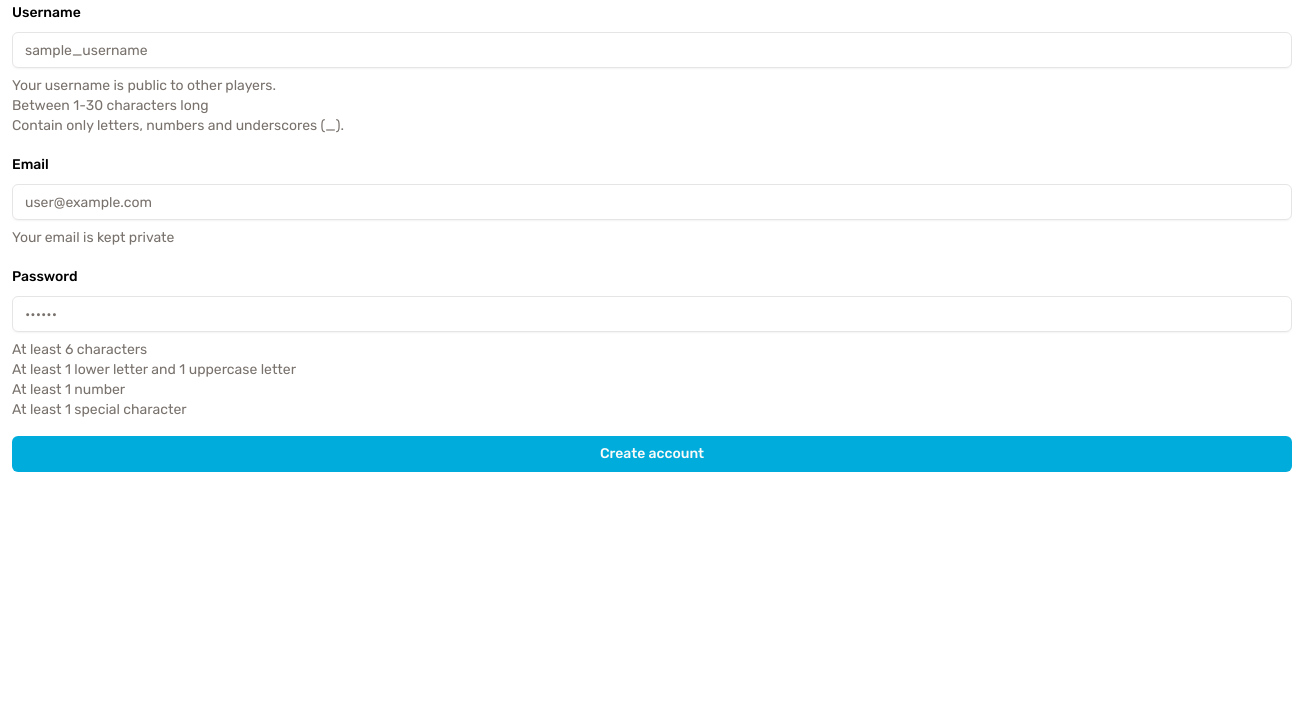
Test: validation is not successful › and username is not valid › should show an error if username is too long
In the field labelled "Username": (652, 50) [12,32,1292,68], type "dsajflakdsjflkajflkajslfjaldskfjalsfjaklsjflkadsfjlkajl"
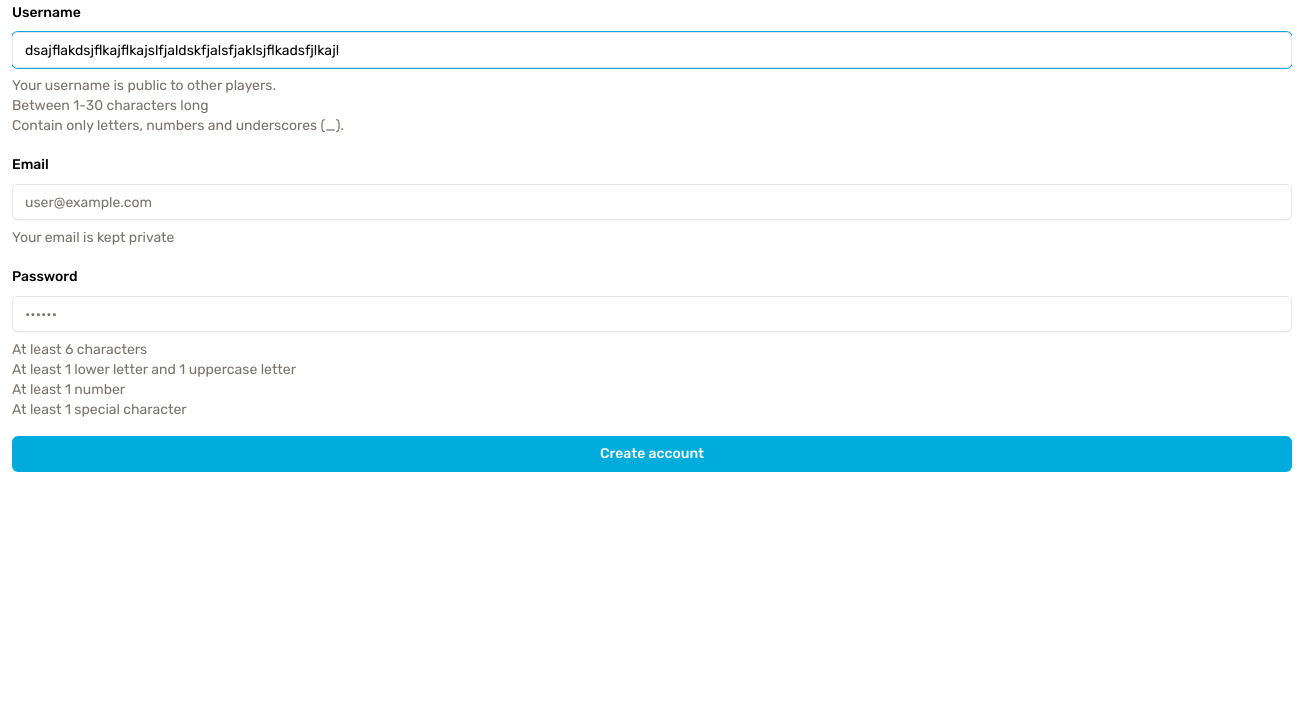
Click the button "Create account": (652, 454) [12,436,1292,472]
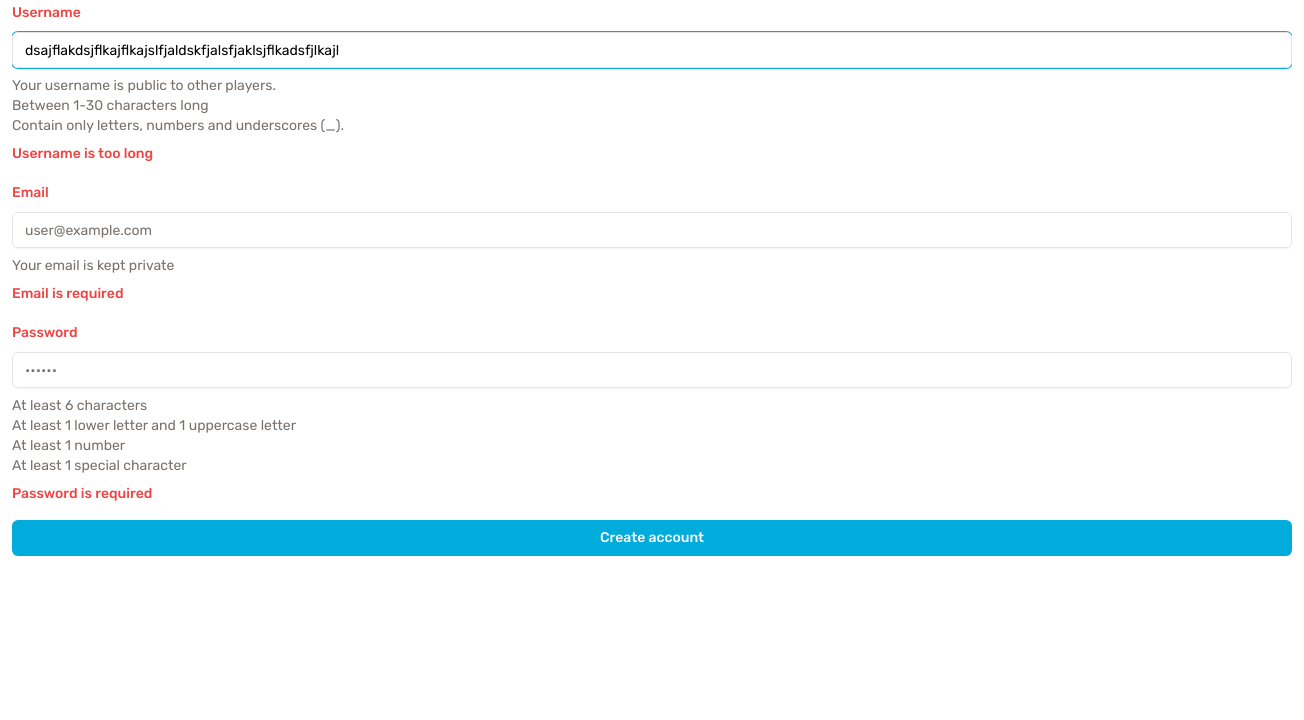
Expected: the text "Username is too long" is shown, [12,145,153,162]
